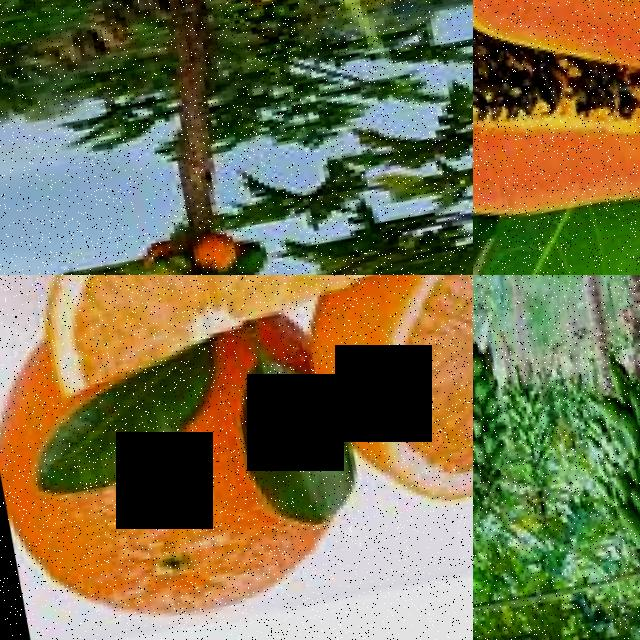orange: (0, 365, 357, 640), (7, 275, 393, 398), (317, 275, 473, 517)
pawpaw: (473, 0, 640, 259), (473, 0, 640, 81), (191, 217, 242, 275), (614, 501, 640, 549)
